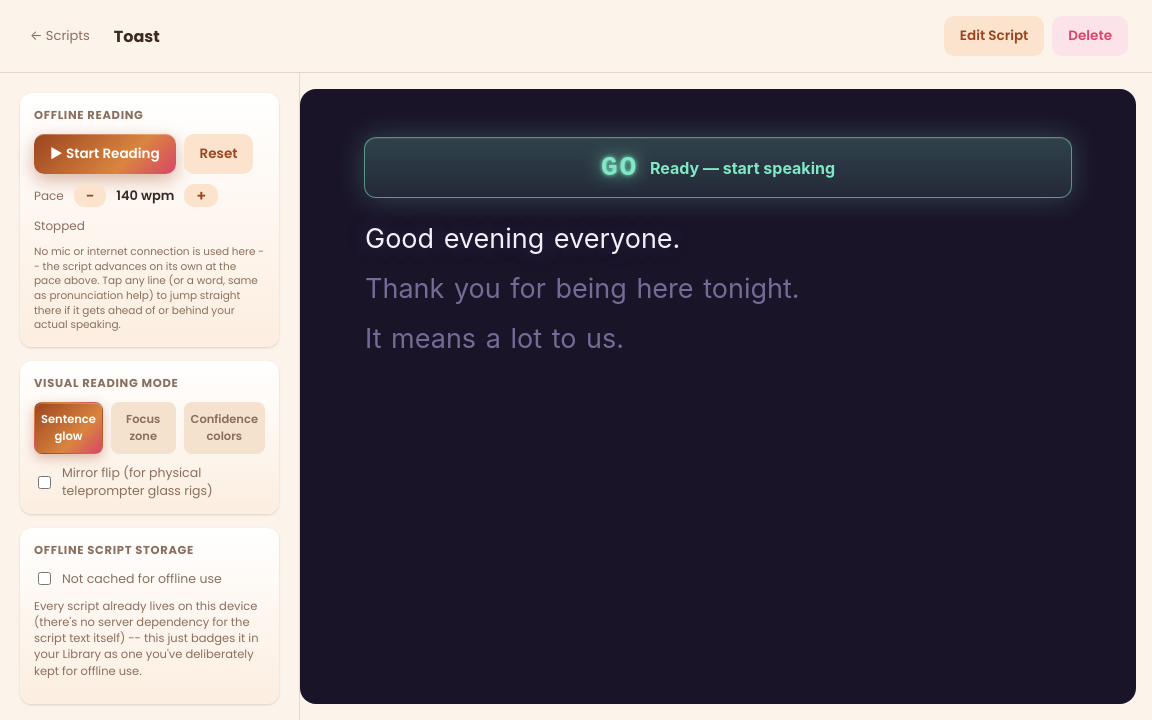
Test: ScriptWorkspace offline reading › pauses in place and resumes from the same spot, not from the start
This screenshot has width=1152, height=720.
Click the button "▶ Start Reading" at {"x": 105, "y": 154}, box x1=34 y1=134 x2=176 y2=174
Wait 3000 ms
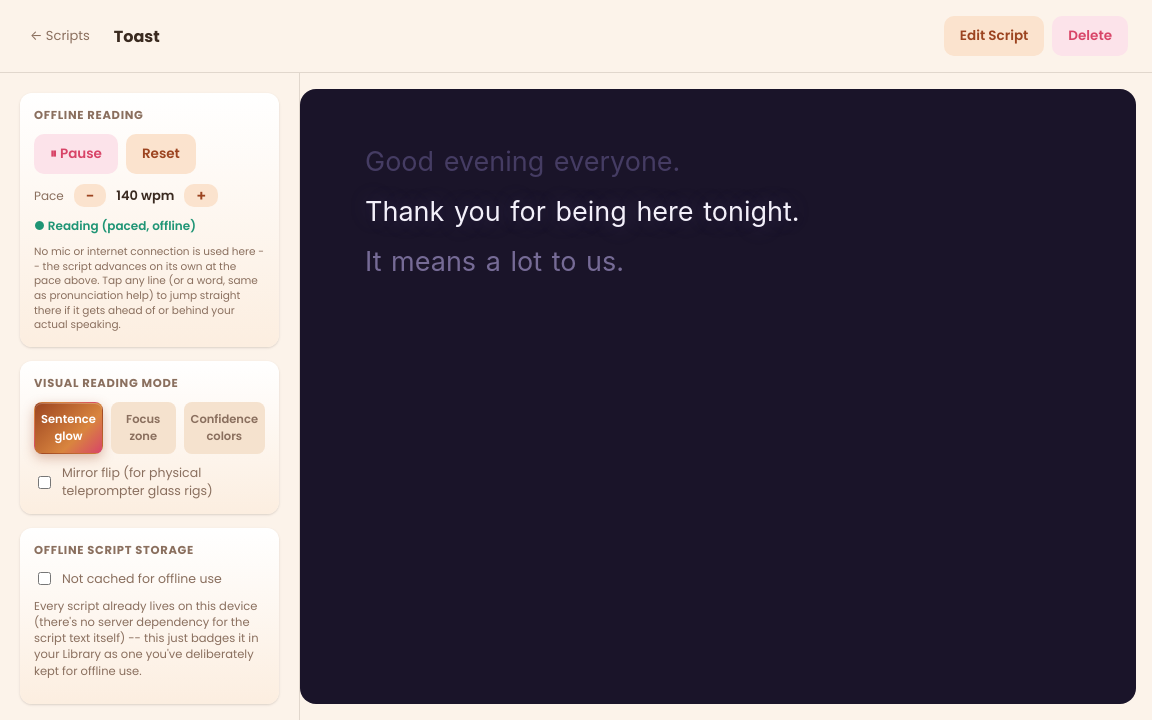
Click the button "⏸ Pause" at {"x": 76, "y": 154}, box x1=34 y1=134 x2=118 y2=174
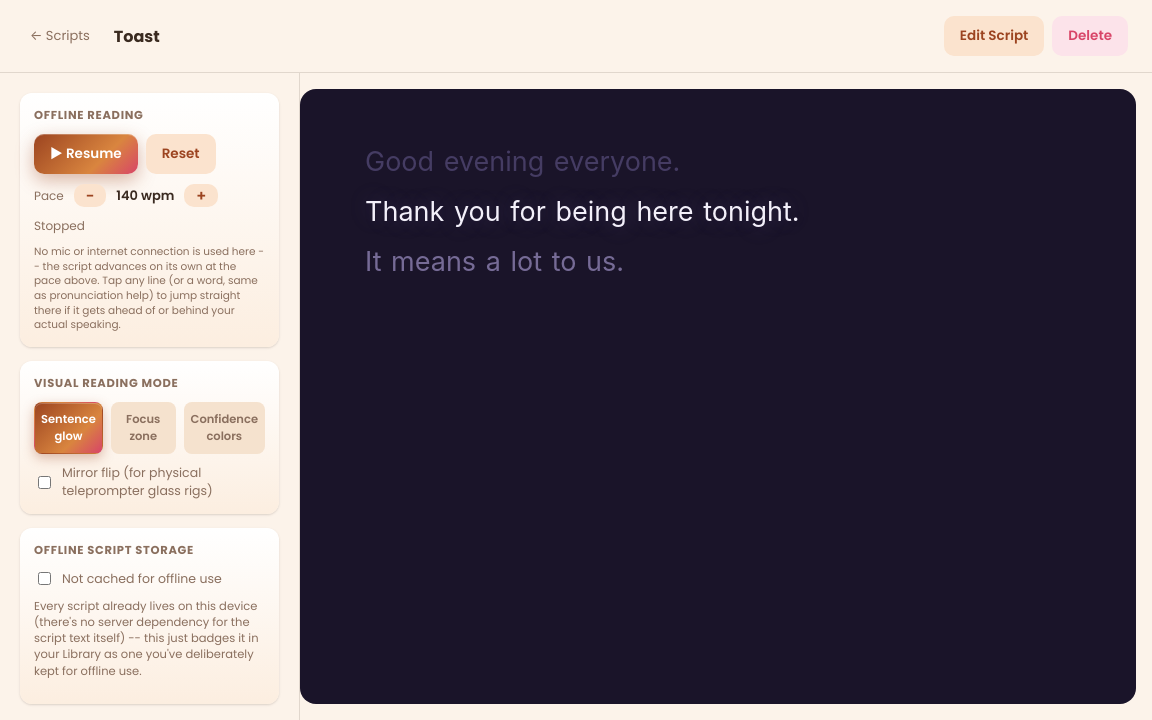
Expected: the text "Stopped" is shown, x1=34 y1=217 x2=85 y2=234
Expected: the button "▶ Resume" is shown, x1=34 y1=134 x2=138 y2=174
